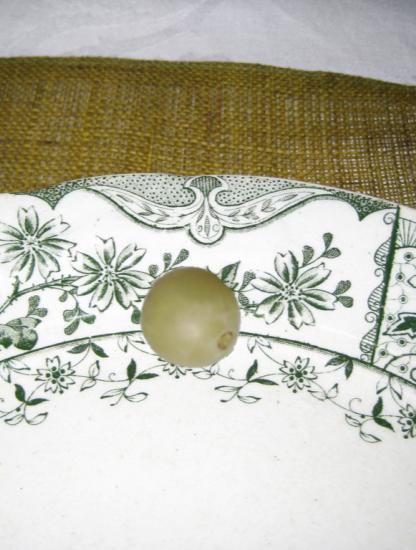Grape: (138, 266, 244, 372)
